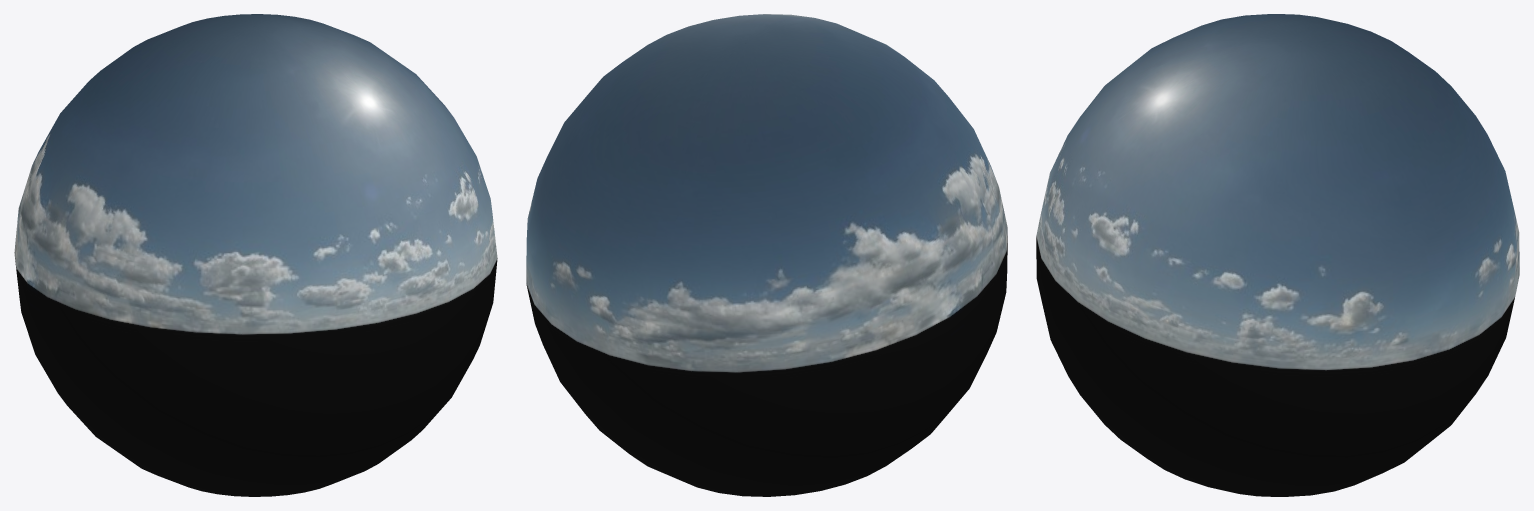
The model's file is midi.gltf.
The picture shows the model from 3 angles, left to right: view 1: azimuth 30°, elevation 25°; view 2: azimuth 150°, elevation 25°; view 3: azimuth 270°, elevation 25°; orthographic projection.
Visible parts, largest first — view 1: midi; view 2: midi; view 3: midi.
Boxes of the visible parts, x1,y1,x2,y2 form: midi: (14,14,497,496); midi: (526,14,1007,496); midi: (1036,14,1519,496).
Bounding box in the file's own units: 444 × 443 × 442.
Materials: 1 (1 with a texture image).
